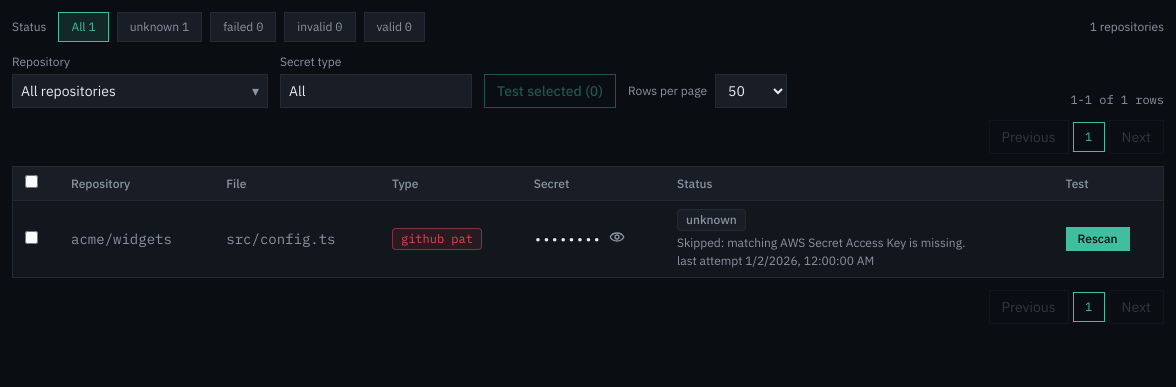
it: TestingPanel (regular user, scoped to own approved repos) › explains a denied rescan without treating it as an API outage
Click the button named "Repository".
click(140, 91)  # box [12,74,268,108]
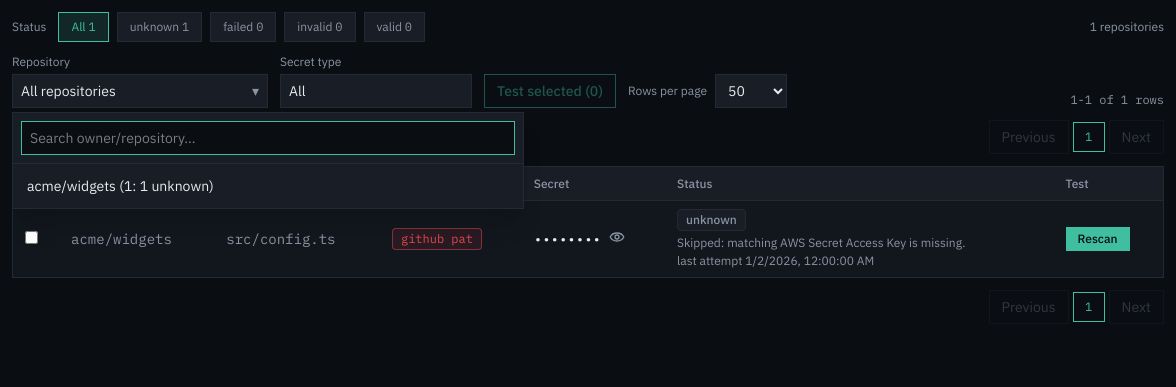
Click the option "acme/widgets (1: 1 unknown)".
click(120, 186)  # box [17,168,519,204]
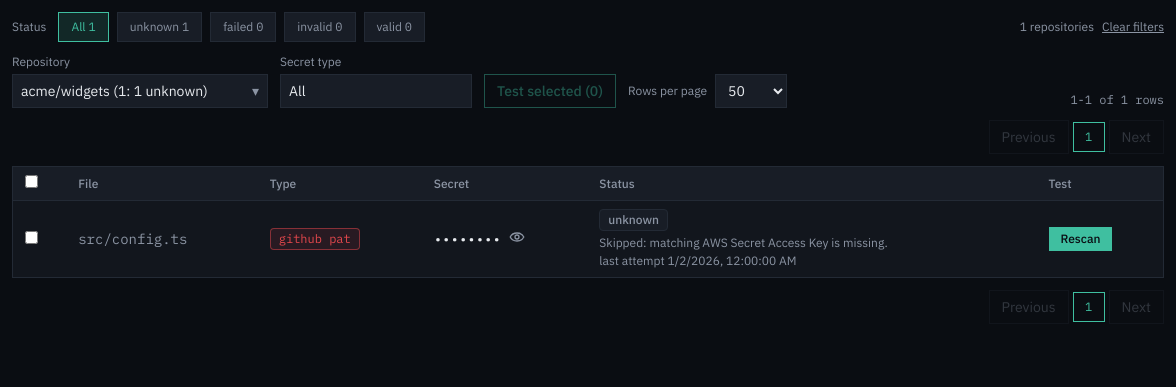
Click the button "Rescan".
click(1080, 239)  # box [1048,227,1112,251]
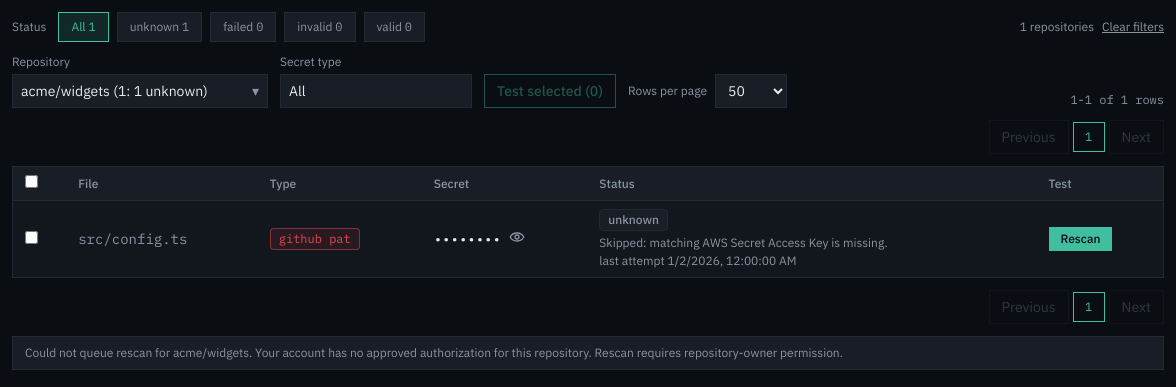
Expected: the text "Your account has no approved authorization" is shown, [25,345,843,360]
